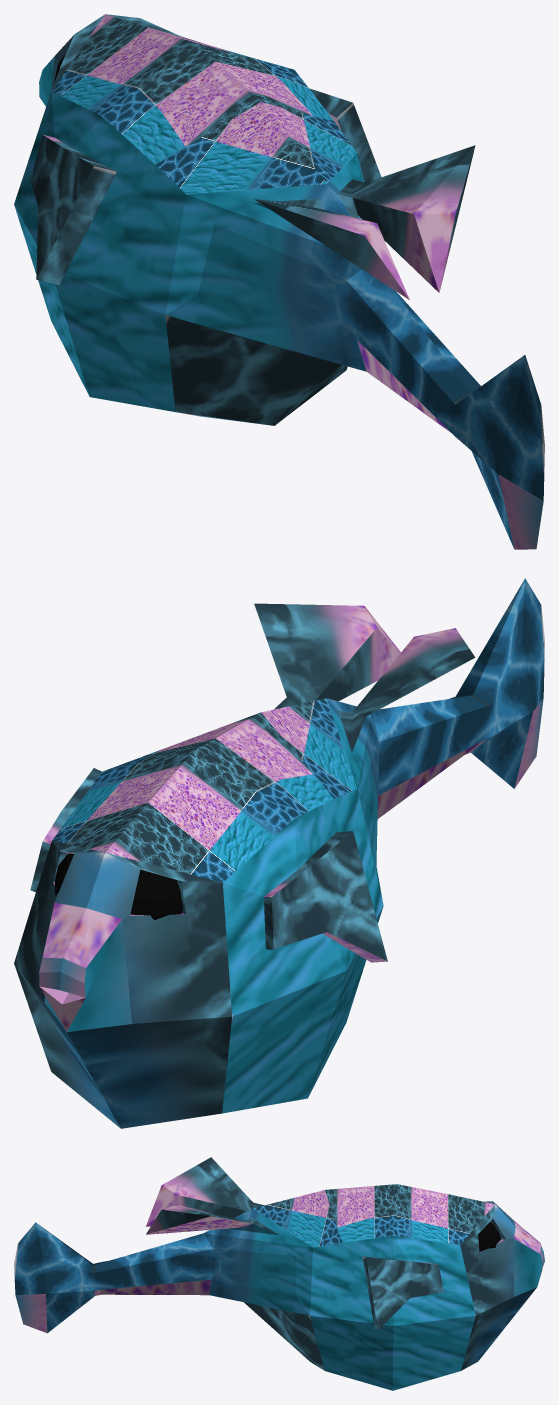
The model's file is PufferFish 1.fbx.
The picture shows the model from 3 angles, top to bottom: view 1: azimuth 30°, elevation 25°; view 2: azimuth 150°, elevation 25°; view 3: azimuth 270°, elevation 25°; orthographic projection. The views are drawn at different scales.
Visible parts, largest first — view 1: Cube; view 2: Cube, Sphere; view 3: Cube, Sphere.
Part boxes in pixels (<box>): Cube: <box>14,14,544,549</box>; Cube: <box>14,578,544,1128</box>; Sphere: <box>55,853,182,920</box>; Cube: <box>14,1157,544,1390</box>; Sphere: <box>478,1222,501,1251</box>.
Size of the model in its own units: 52.07 by 52.31 by 124.
